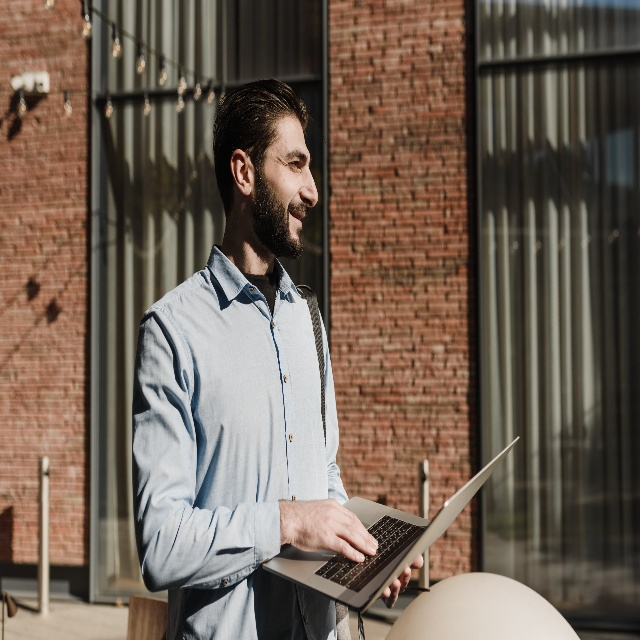Sin_guantes: (290, 497, 378, 564), (376, 553, 423, 609)
